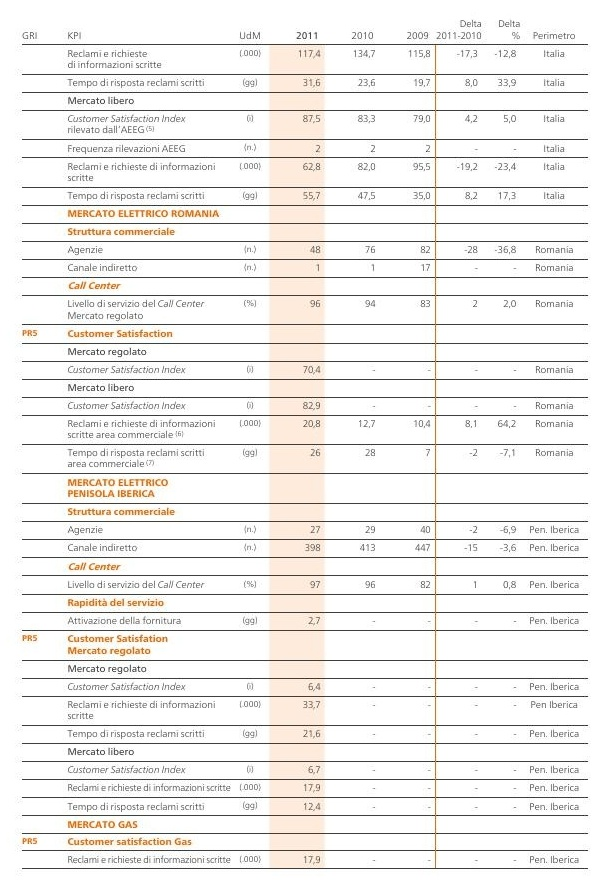table: (0, 0, 608, 889)
